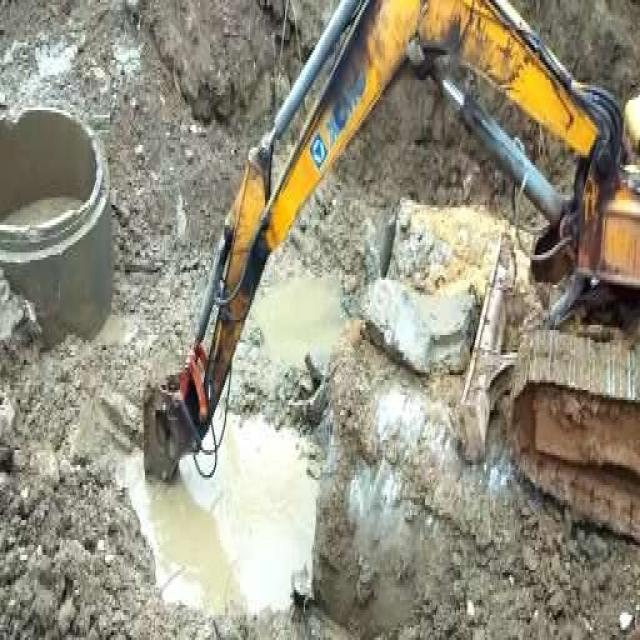excavator: (143, 0, 639, 540)
